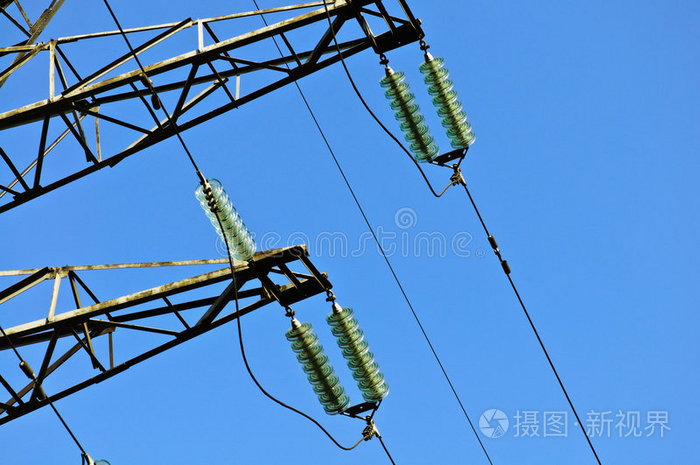insulator: (284, 321, 354, 415), (380, 69, 441, 164), (328, 308, 391, 399), (421, 57, 479, 149), (198, 180, 259, 262)
